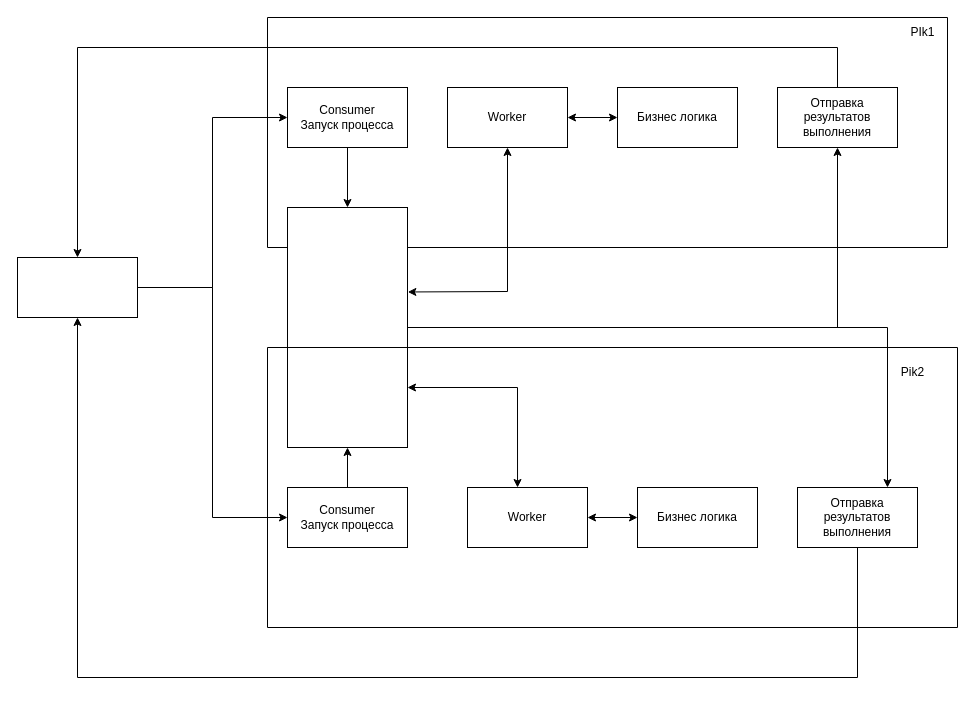
The diagram is 975 pixels wide and 703 high, and some of its shapes have lost their labels. The centre of each missing label's shape, as x and y in pixels:
Cam7: the point at 347,327
Кафка: the point at 77,287
